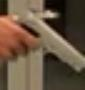gun: (1, 1, 85, 90)
